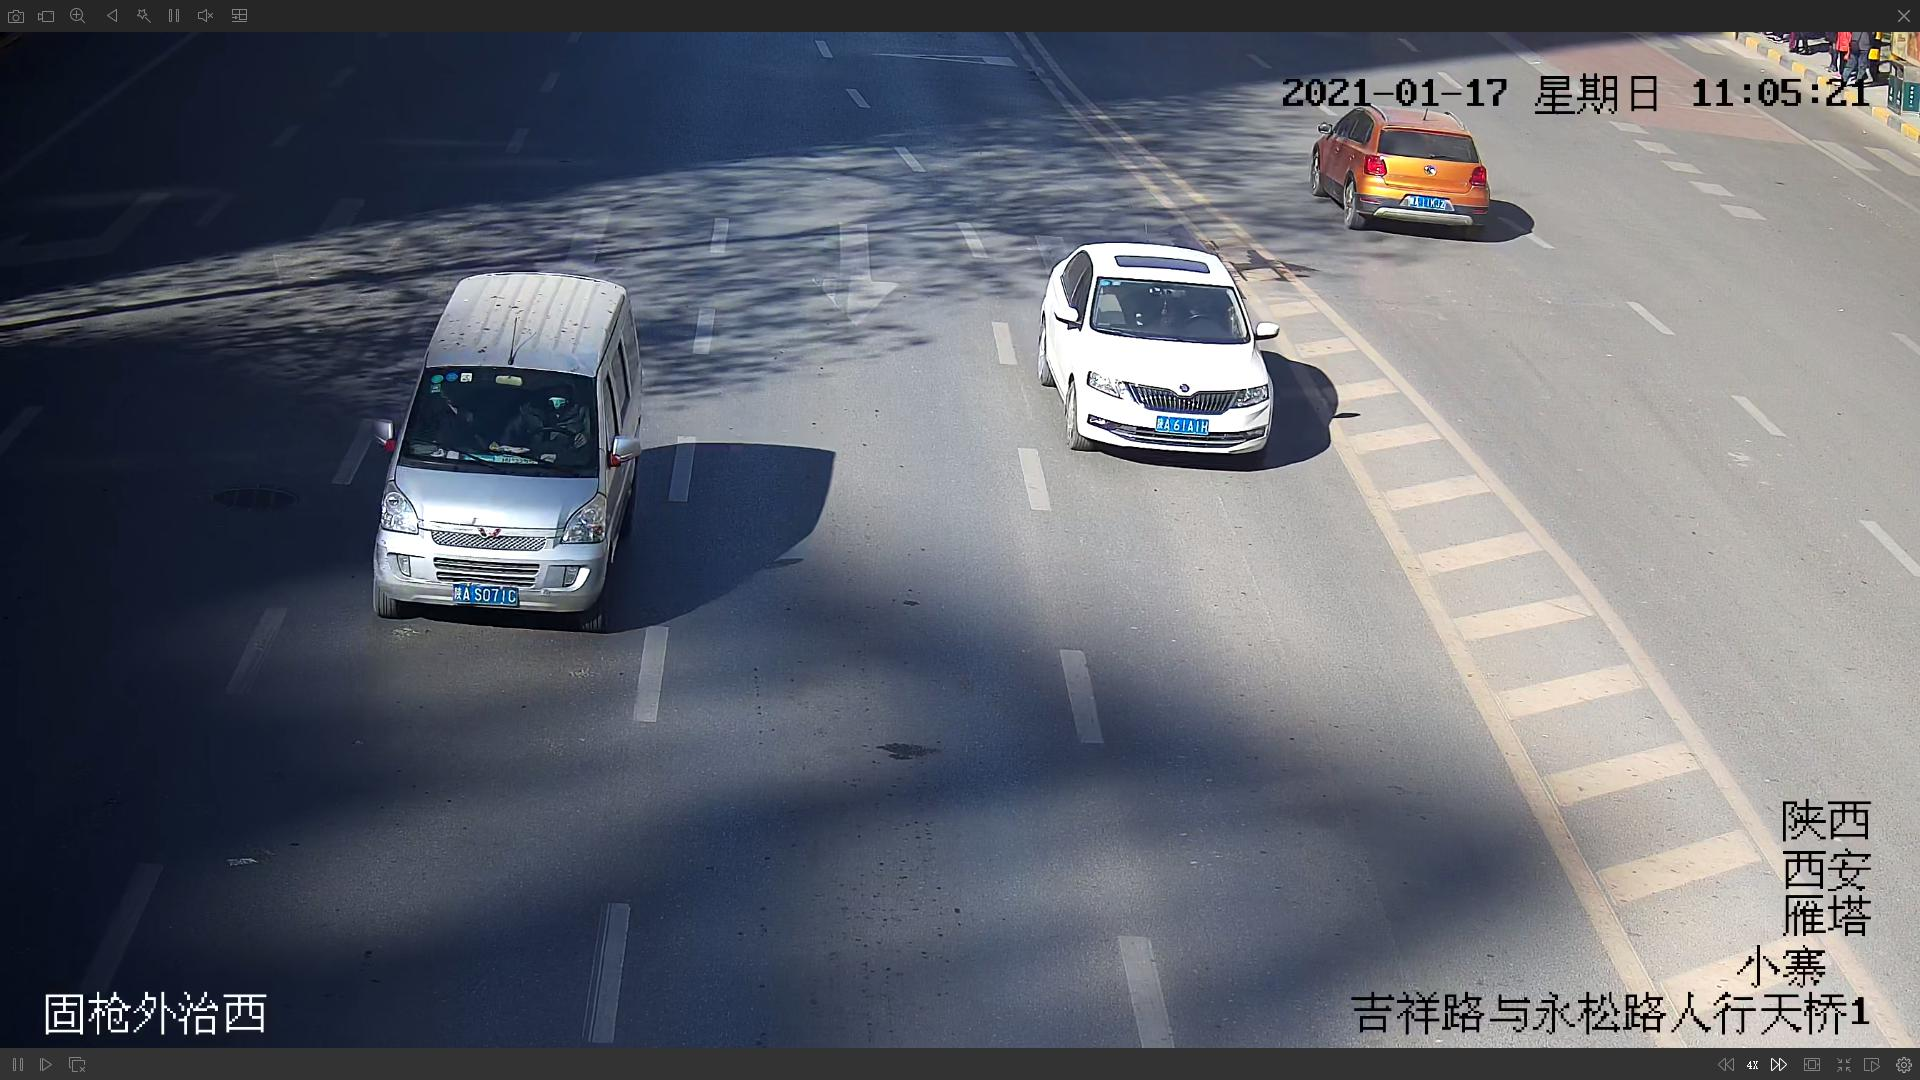silver-gray: (371, 273, 640, 620)
white: (1044, 241, 1279, 467)
